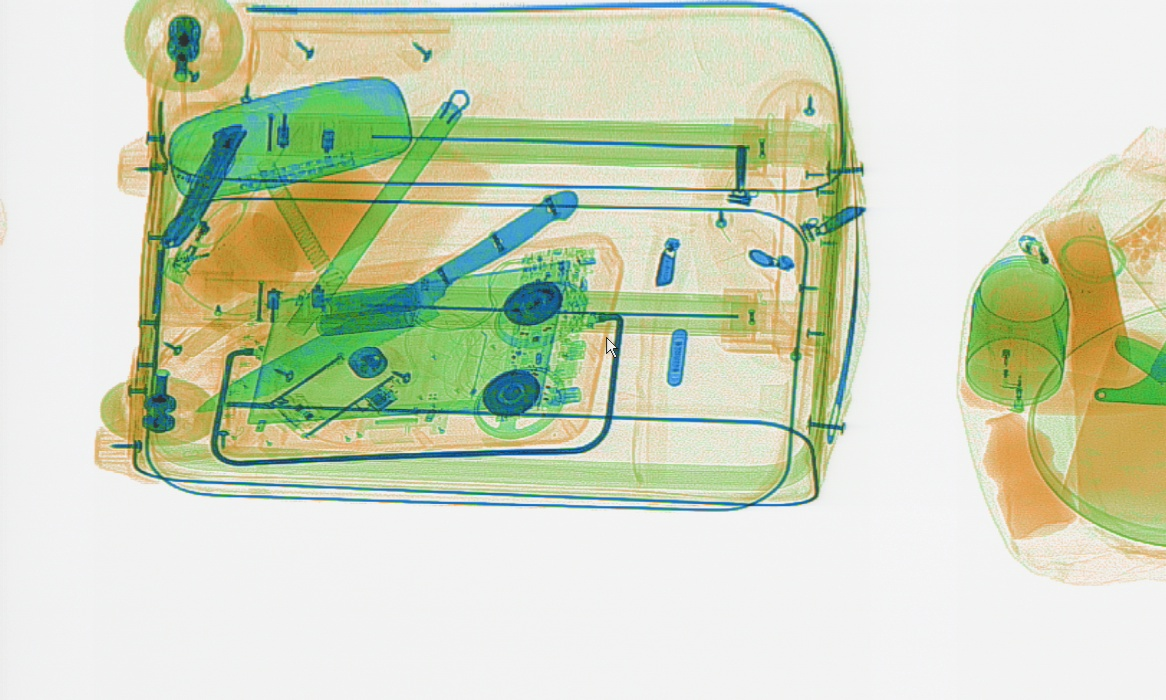knife: (195, 184, 580, 409), (159, 119, 247, 244)
lighter: (163, 182, 239, 283), (988, 289, 1027, 412)
